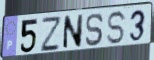3: (128, 8, 150, 44)
5: (19, 17, 40, 54)
N: (62, 13, 85, 51)
S: (106, 9, 128, 46), (85, 12, 105, 48)
Z: (40, 16, 62, 54)
